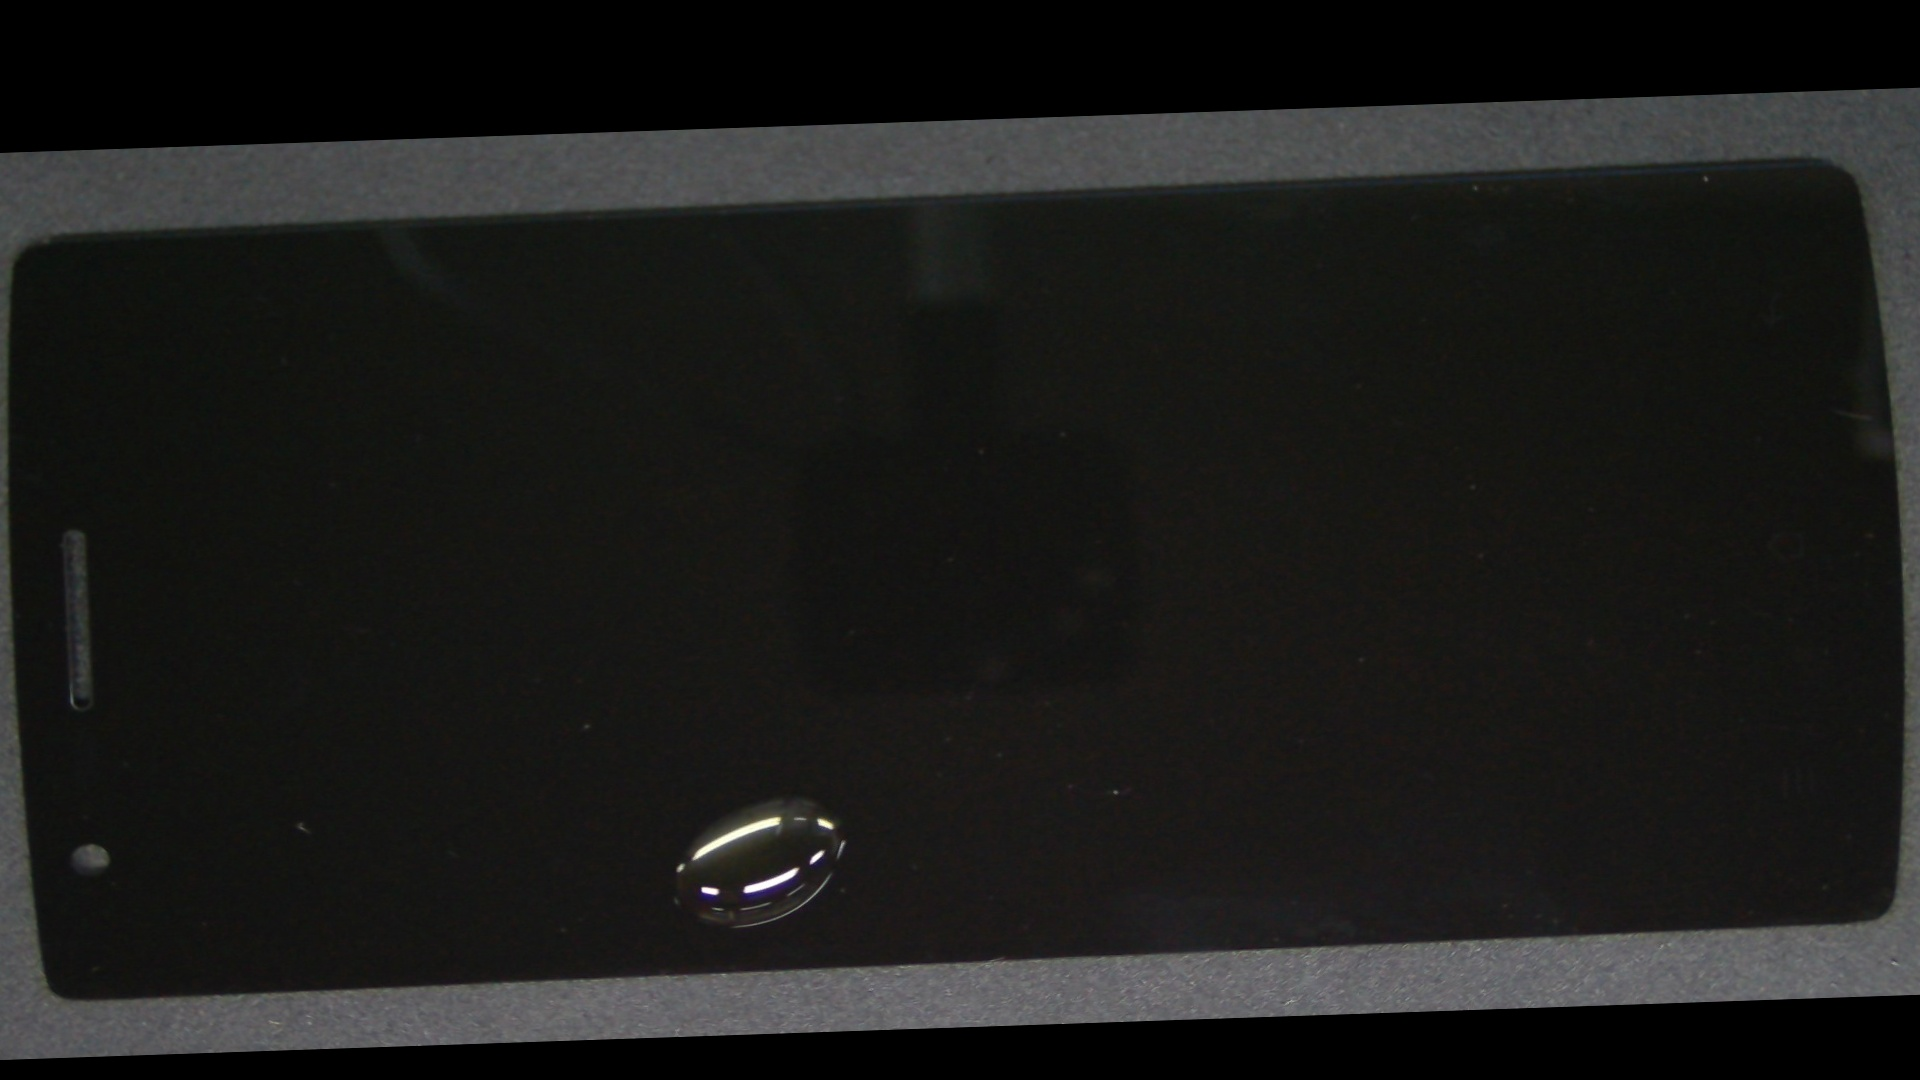oil: (371, 447, 1208, 1047)
